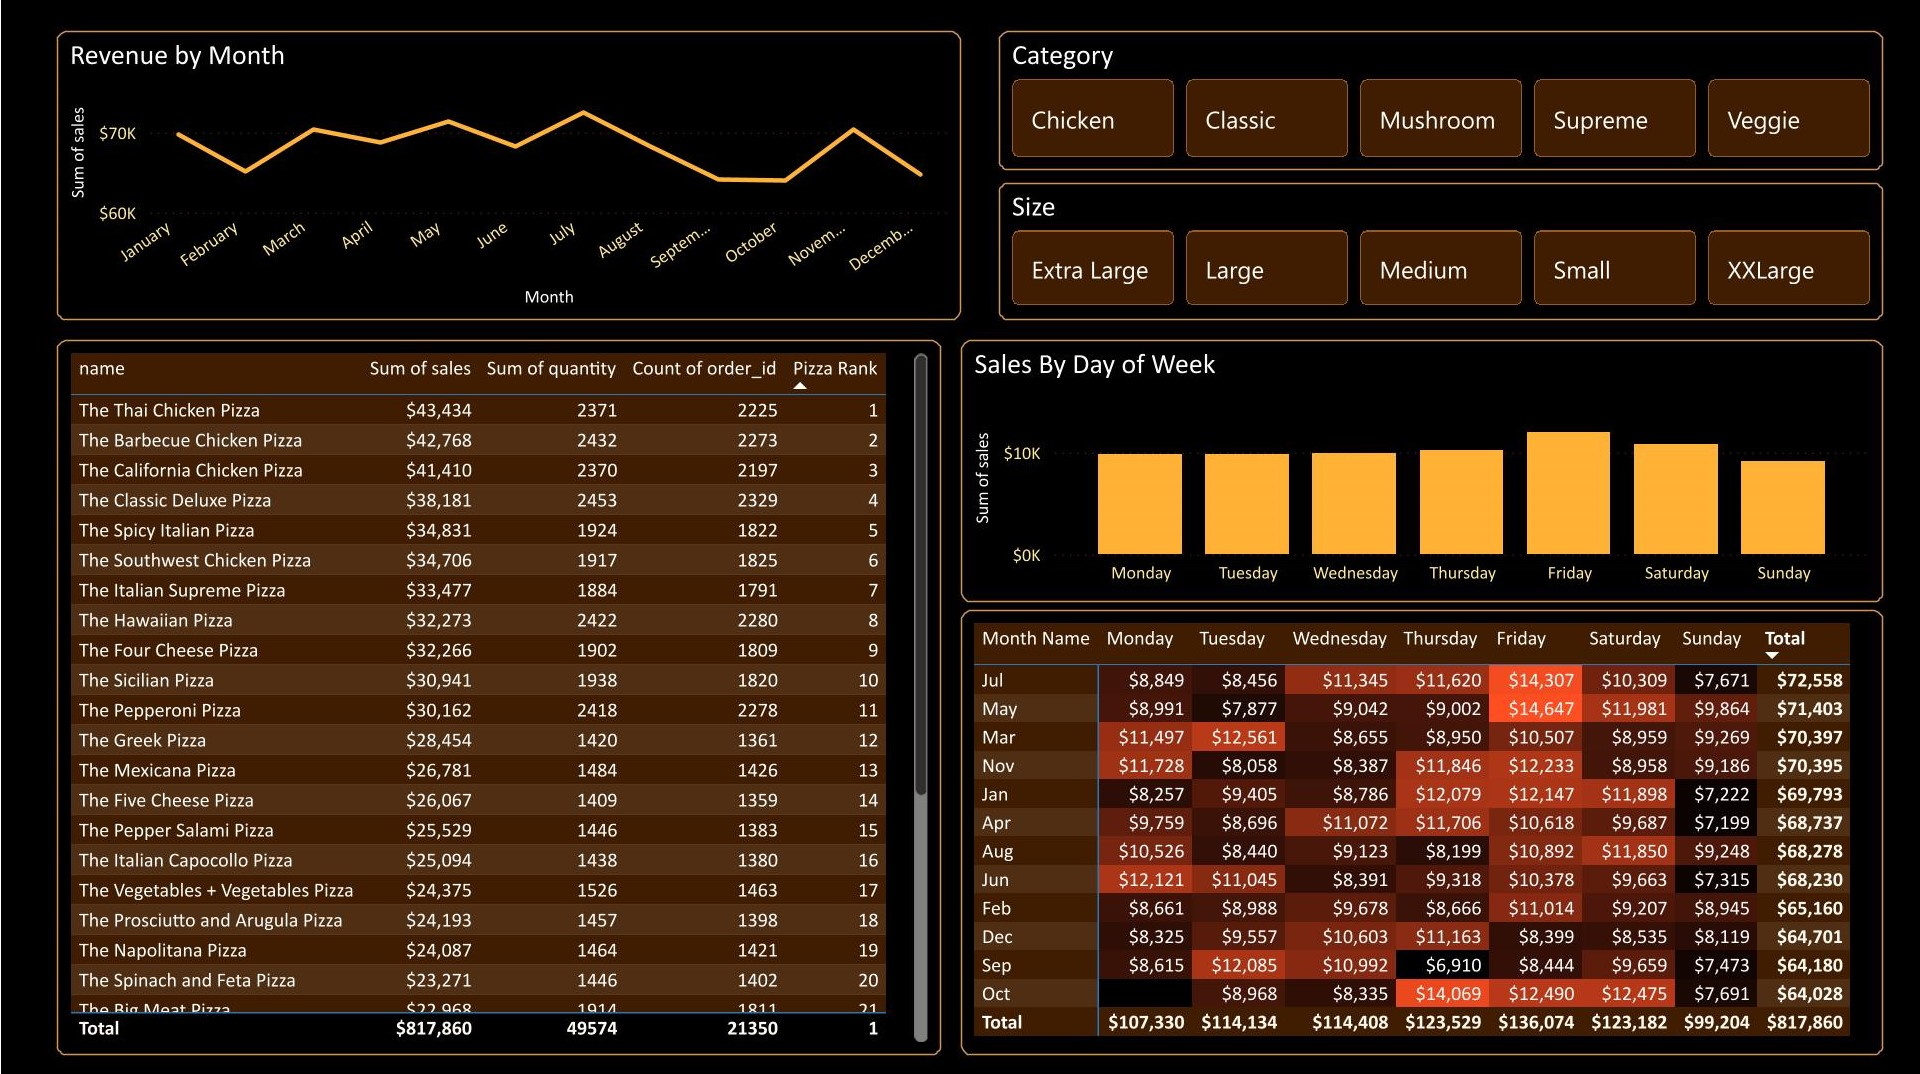

What the dashboard file says about the page in this screenshot:
{"tool":"powerbi","page":{"name":"Page 2","canvas":[1280,720],"ordinal":1},"visuals":[{"type":"tableEx","fields":{"Values":["gold dim_pizzas.name","Sum(gold fact_sales.sales)","Sum(gold fact_sales.quantity)","Count(gold fact_sales.order_id)","gold fact_sales.Pizza Rank"]},"box":[36.7,228.3,590,476.7],"z":0},{"type":"columnChart","title":"Sales By Day of Week","fields":{"Y":["Sum(gold fact_sales.sales)"],"Category":["gold fact_sales.Day Name"]},"box":[640,228.3,615,175],"z":1000},{"type":"pivotTable","fields":{"Values":["Sum(gold fact_sales.sales)"],"Columns":["gold fact_sales.Day Name"],"Rows":["gold fact_sales.Month Name"]},"box":[640,408.3,615,296.7],"z":2000},{"type":"lineChart","title":"Revenue by Month","fields":{"Category":["gold fact_sales.order_date.Variation.Date Hierarchy.Month","gold fact_sales.order_date.Variation.Date Hierarchy.Day"],"Y":["Sum(gold fact_sales.sales)"]},"box":[36.7,21.7,603.3,193.3],"z":3000},{"type":"advancedSlicerVisual","title":"Category","fields":{"Values":["gold dim_pizzas.category"]},"box":[665,22,590,93],"z":4000},{"type":"advancedSlicerVisual","title":"Size","fields":{"Values":["gold dim_pizzas.size"]},"box":[665,123.3,590,91.7],"z":5000}]}

Visuals, with their boxes in screenshot pixels (x1, y1, x2, y2), scaled from the page's 1280x720 canvas onto the 1920x1074 screenshot:
tableEx - gold dim_pizzas.name x Sum(gold fact_sales.sales): left=55, top=341, right=940, bottom=1052
"Sales By Day of Week" columnChart: left=960, top=341, right=1882, bottom=602
pivotTable - Sum(gold fact_sales.sales) x gold fact_sales.Day Name: left=960, top=609, right=1882, bottom=1052
"Revenue by Month" lineChart: left=55, top=32, right=960, bottom=321
"Category" advancedSlicerVisual: left=998, top=33, right=1882, bottom=172
"Size" advancedSlicerVisual: left=998, top=184, right=1882, bottom=321
